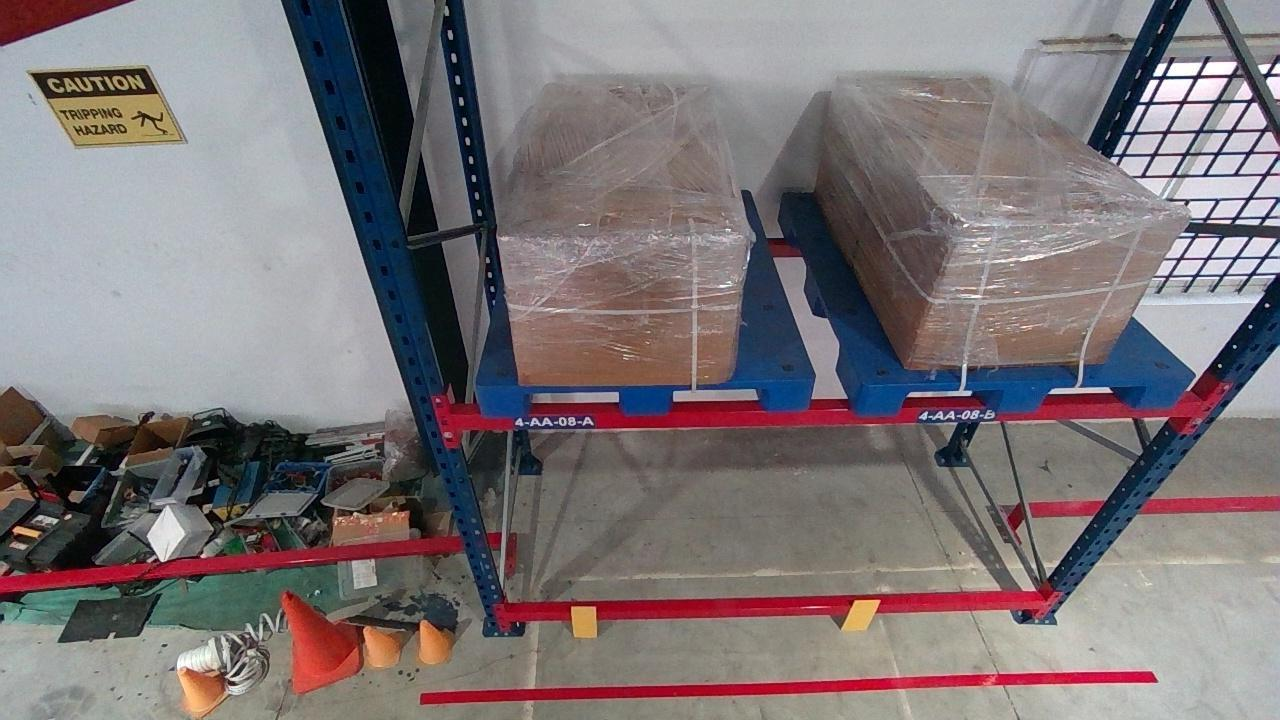h_rack: (452, 397, 1198, 428), (509, 595, 1048, 621)
orange_strip: (840, 599, 881, 631), (571, 606, 596, 637)
red_line: (422, 669, 1159, 704)
small_pallet: (854, 378, 1205, 411), (478, 381, 813, 412)
